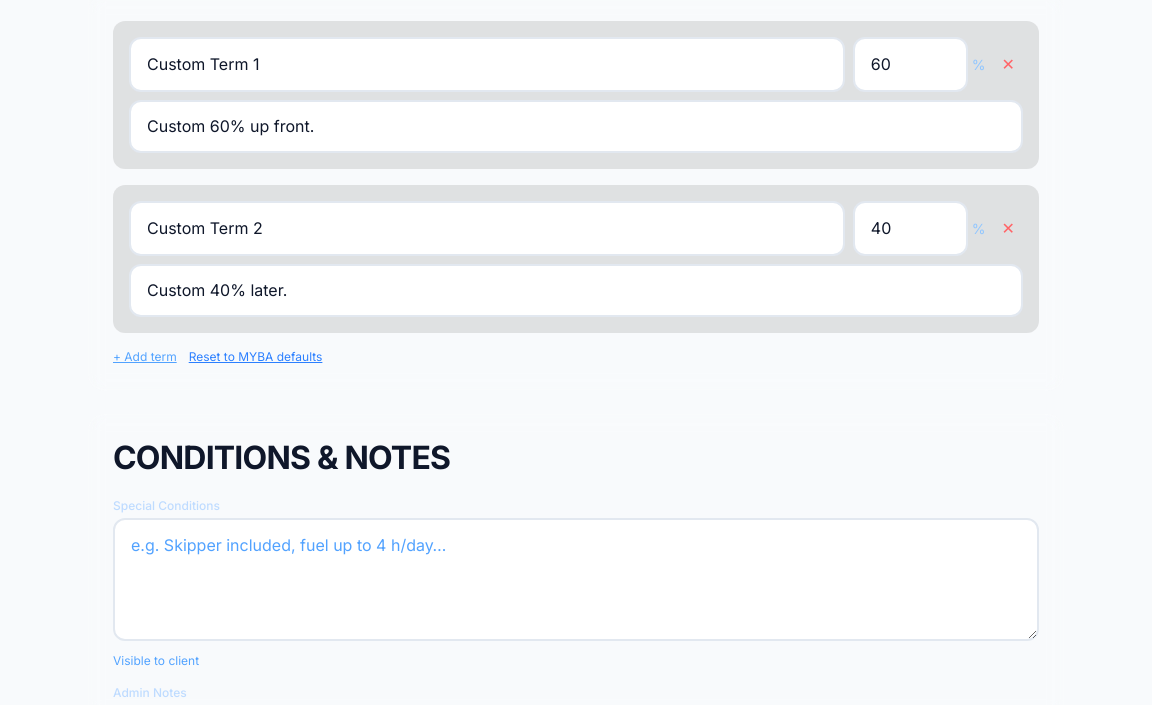
ProposalEditorClient — payment terms › resets payment terms to MYBA defaults when the reset button is clicked
The image size is (1152, 705).
(page scrolled)
Check: the 1st field showing "Custom Term 1" is shown, box [129,37,845,92]
Click the button "Reset to MYBA defaults" at (256, 358), box [189,350,322,366]
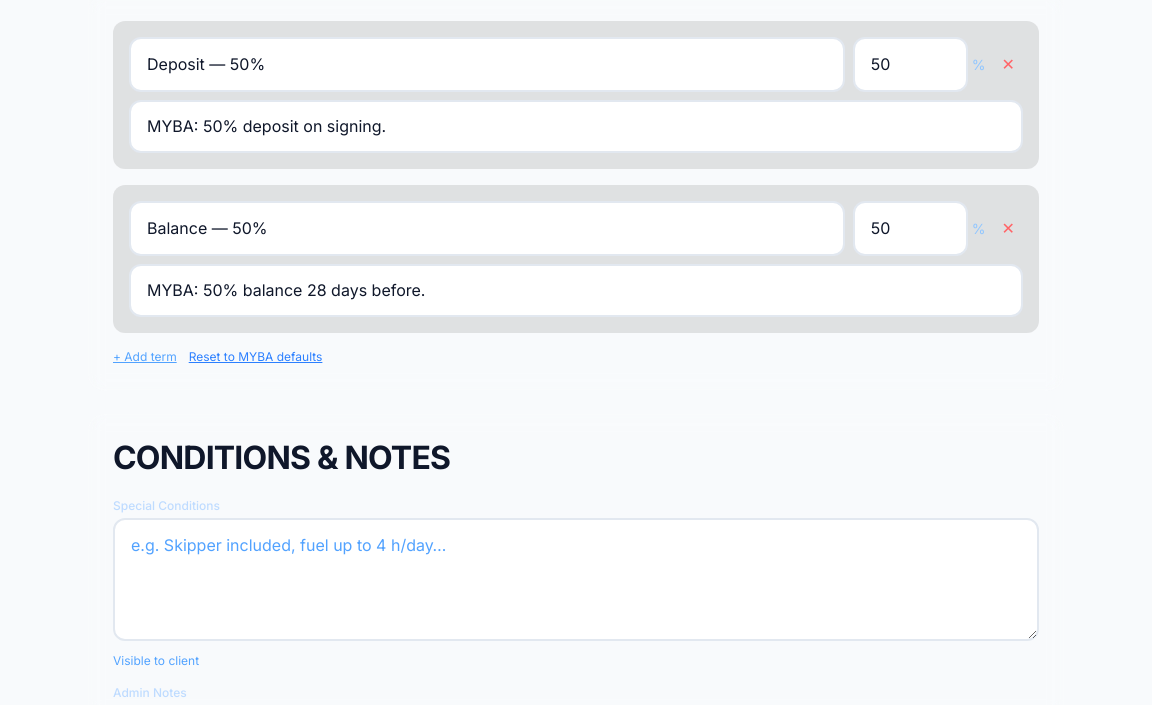
Check: the 1st field showing "Deposit — 50%" is shown, box [129,37,845,92]
Check: the 3rd field showing "Balance — 50%" is shown, box [129,201,845,256]
